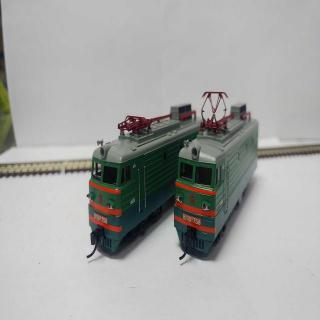poezd: (176, 95, 263, 257), (91, 117, 176, 270)
